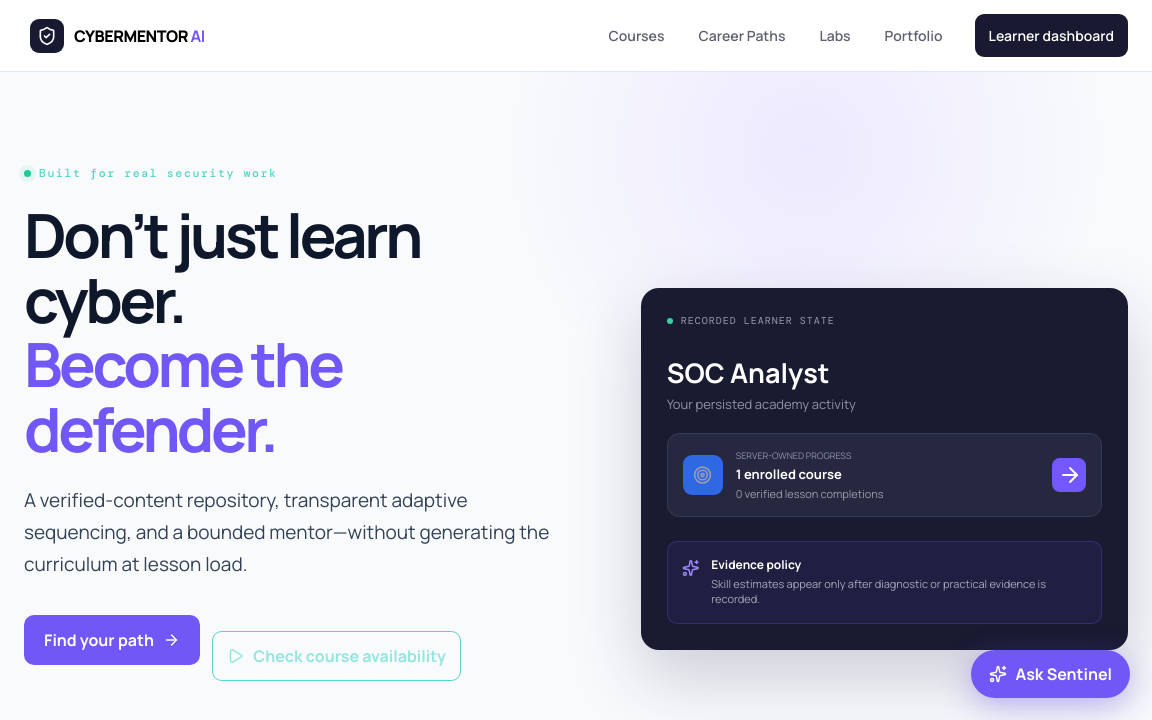
Test case: connected learner experience › does not deliver unreviewed legacy labs
This screenshot has width=1152, height=720.
Click the button "Labs": (835, 36) [805,14,865,57]
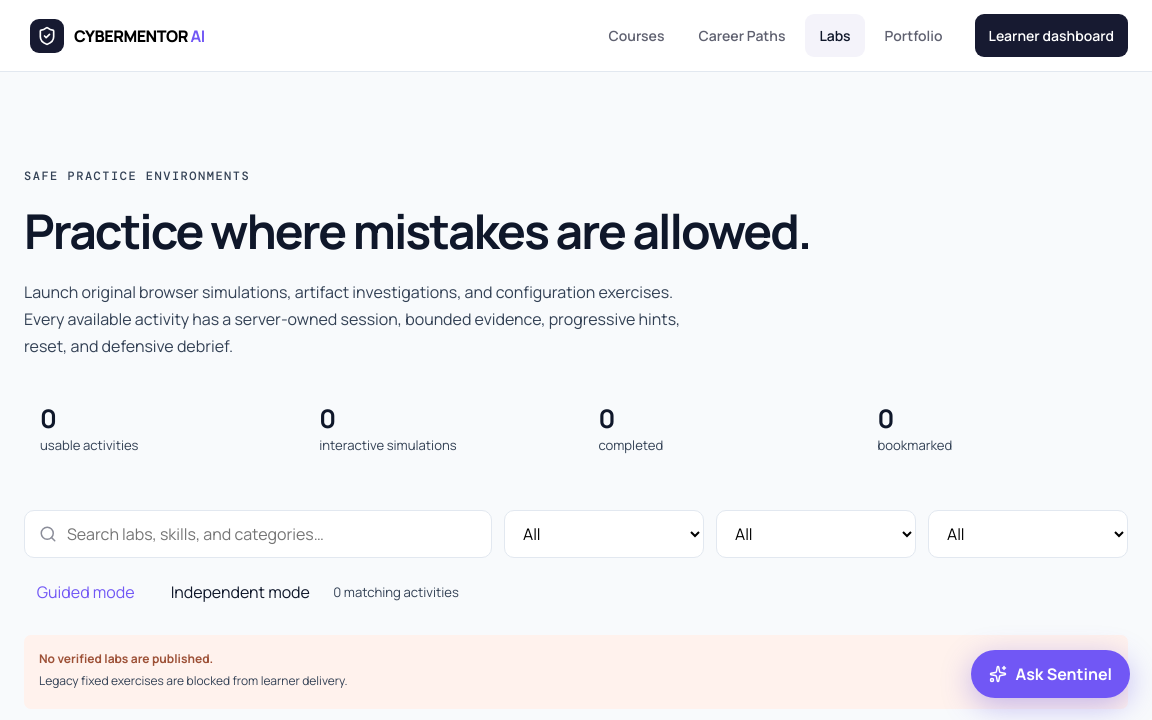
Expected: the text "No verified labs are published." is shown, [39,650,213,666]
